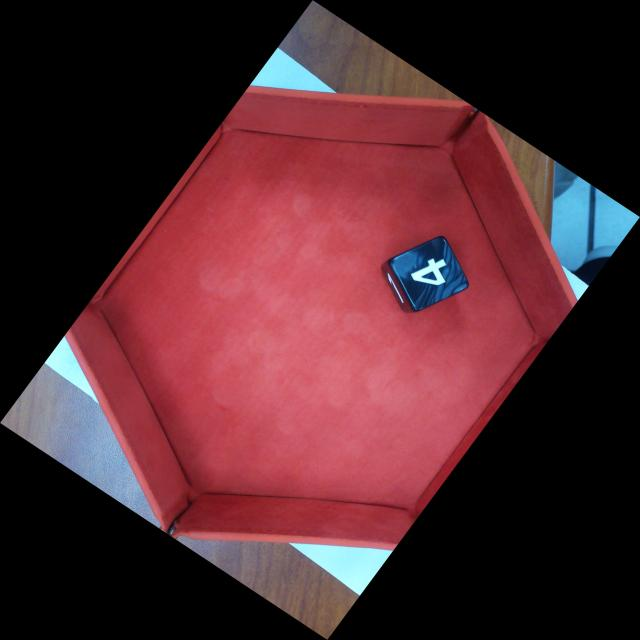dice: (390, 234, 476, 314)
